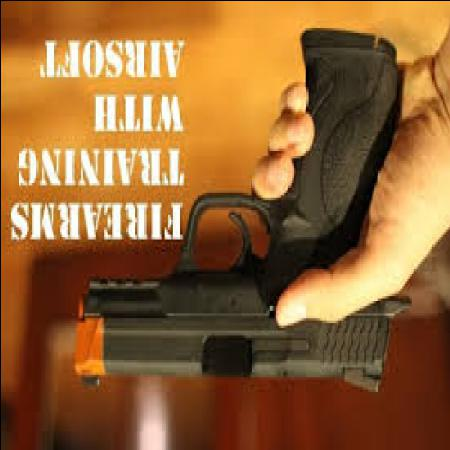Pistol: (76, 45, 413, 400)
